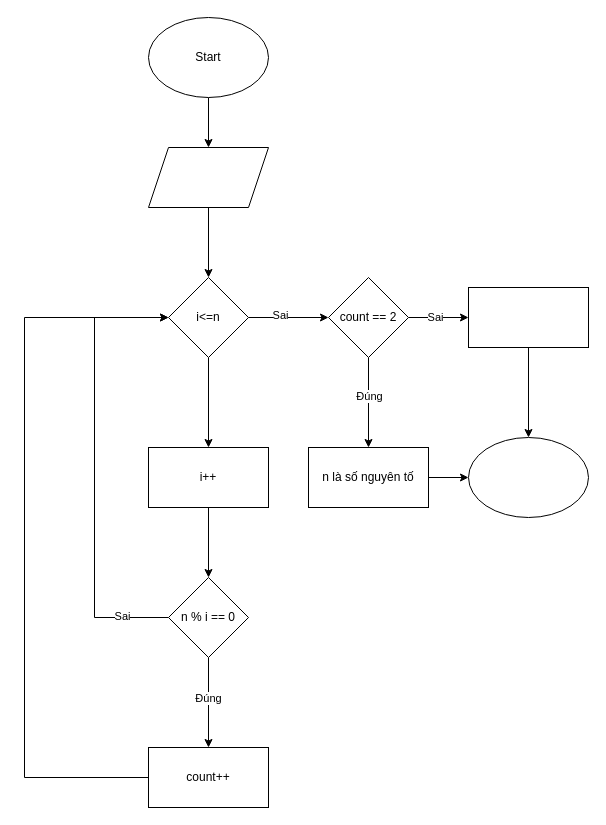
Image size: 606x825. Some labels were removed from this diagram. The shapes that lost their labels are listed below. From the top down, each one's centre as x and y in pixels, then its label:
At [208,177]: "int n, count int i = 0".
At [528,317]: "n không là số nguyên tố".
At [528,477]: "End".
